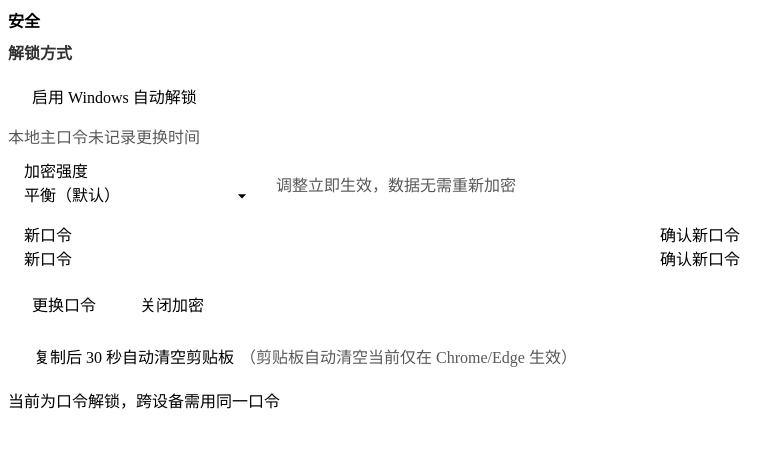
SecurityCard › dpapi 未绑定：显示启用按钮；点击走 getCurrentDek→protect→add 并提示成功
The width and height of the screenshot is (757, 459).
Click the button with class "enable-dpapi" at (114, 96), box 8,76 -> 221,116
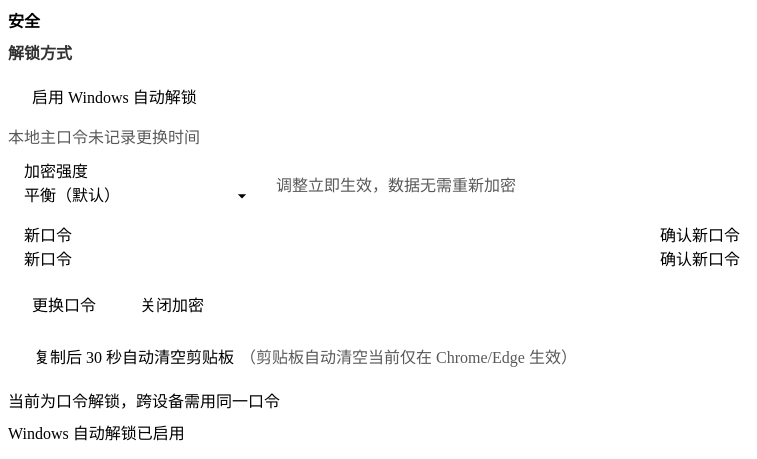
Expected: the text "Windows 自动解锁已启用" is shown, 8,425 -> 185,442
